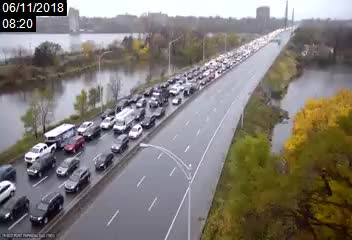congestion: (1, 122, 135, 230), (85, 87, 185, 132), (158, 68, 218, 96), (200, 56, 236, 73)
personal_car: (29, 192, 64, 225), (1, 189, 29, 225), (22, 156, 56, 180), (24, 141, 57, 165), (63, 167, 91, 194), (55, 157, 81, 177), (63, 135, 85, 156), (94, 152, 114, 172), (111, 135, 129, 154), (140, 115, 156, 129), (78, 121, 94, 134), (85, 128, 99, 141), (116, 99, 130, 111), (151, 107, 166, 118), (100, 106, 114, 117), (181, 87, 195, 97), (168, 85, 180, 96), (135, 99, 146, 109), (131, 92, 140, 103), (199, 77, 208, 87), (189, 75, 200, 83), (156, 82, 165, 91), (166, 75, 176, 83), (177, 76, 186, 84)
truck: (113, 108, 133, 134), (147, 89, 168, 108)
